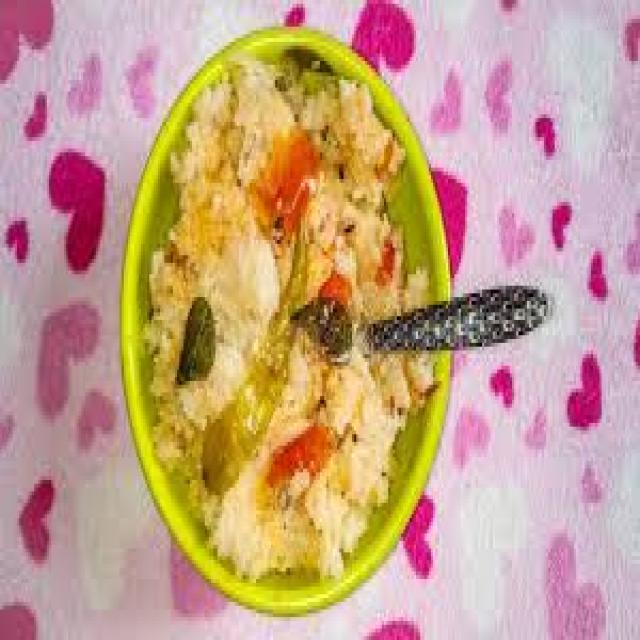UPMA: (139, 50, 446, 575)
